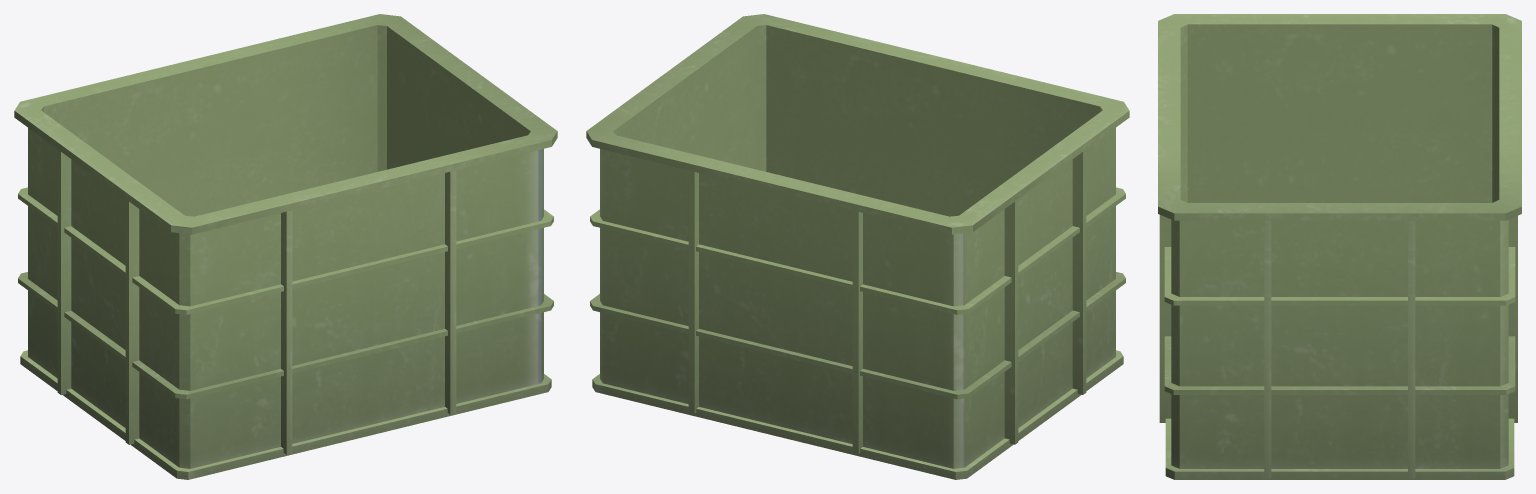
The model's file is cabin10b.fbx.
3 views of the same model, side by side, from view 1: azimuth 30°, elevation 25°; view 2: azimuth 150°, elevation 25°; view 3: azimuth 270°, elevation 25° (orthographic). The views are drawn at different scales.
Visible parts, largest first — view 1: cabin10b; view 2: cabin10b; view 3: cabin10b.
Part boxes in pixels (x1,y1,x2,y2): cabin10b: (14,14,557,479); cabin10b: (586,14,1129,479); cabin10b: (1158,14,1521,479).
Size of the model in its own units: 73.57 by 46.36 by 56.73.
